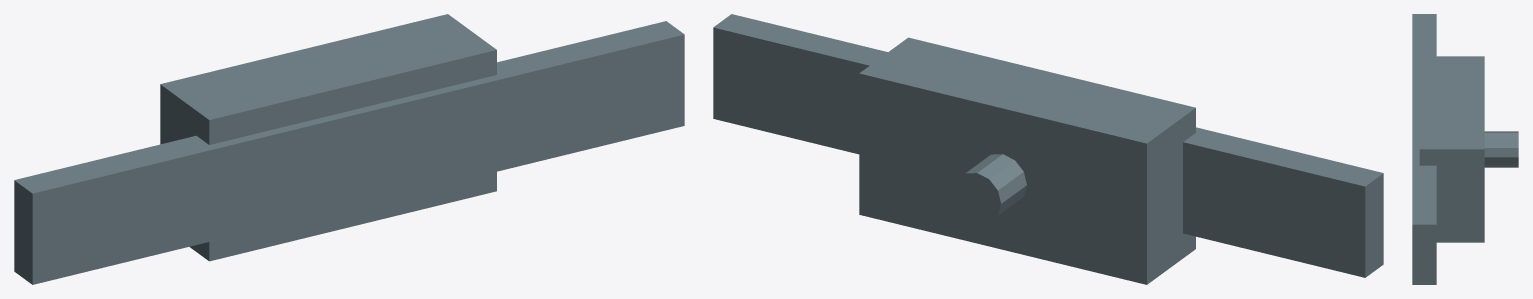
3 renders of one model, left to right at view 1: azimuth 30°, elevation 25°; view 2: azimuth 150°, elevation 25°; view 3: azimuth 270°, elevation 25°, orthographic. The views are drawn at different scales.
Parts seen in each view (by area): view 1: Equipment; view 2: Equipment; view 3: Equipment.
Boxes of the visible parts, <box> form: Equipment: <box>14,14,684,284</box>; Equipment: <box>713,14,1383,284</box>; Equipment: <box>1412,14,1518,284</box>.
Bounding box in the file's own units: 2.04 × 0.4225 × 0.436.
